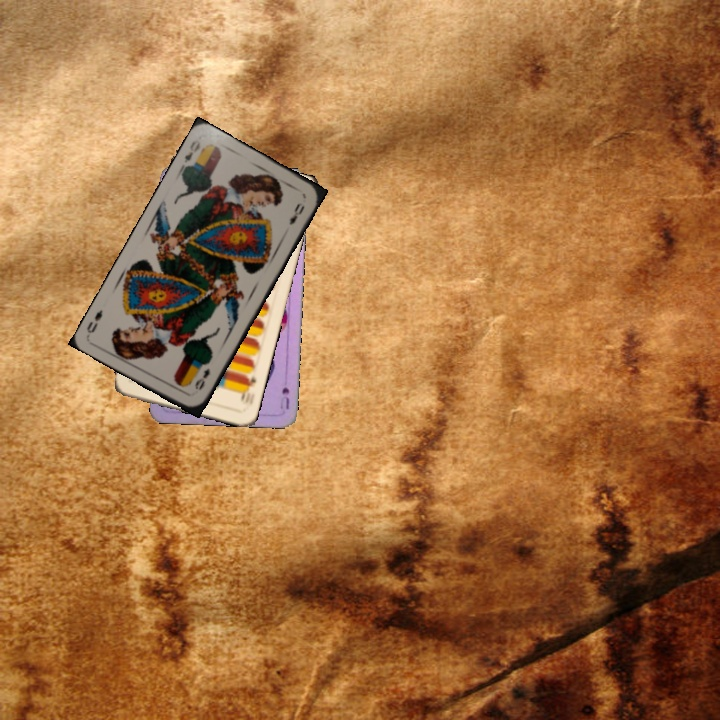E10: (237, 371, 258, 407)
EO: (177, 135, 207, 173), (191, 364, 212, 393)
SU: (276, 383, 292, 412)
